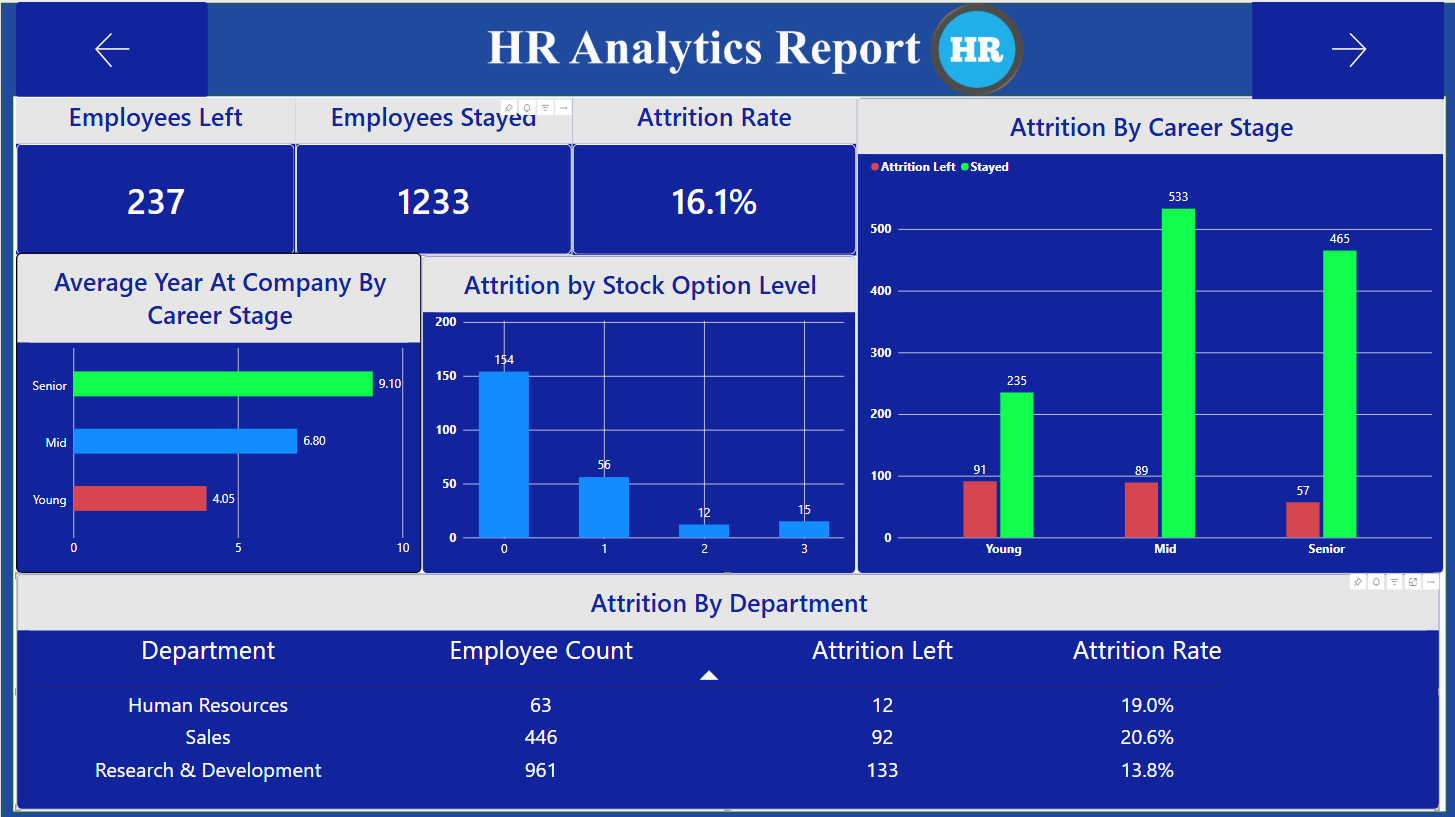

This screenshot's page, from the dashboard's own definition file:
{"tool":"powerbi","page":{"name":"Attrition Analysis","canvas":[1920,1080],"ordinal":1},"visuals":[{"type":"tableEx","title":"Attrition By Department","fields":{"Values":["HR Analytics Data.Department","HR Analytics Data.Employee Count","HR Analytics Data.Attrition Left","HR Analytics Data.Attrition Rate"]},"box":[19.5,753.1,1876.3,311.6],"z":0},{"type":"cardVisual","title":"Employees Left","fields":{"Data":["HR Analytics Data.Attrition Left"]},"box":[19.5,127.7,367.9,205.6],"z":1000},{"type":"cardVisual","title":"Attrition Rate","fields":{"Data":["HR Analytics Data.Attrition Rate"]},"box":[735.8,127.7,361.4,205.6],"z":2000},{"type":"clusteredColumnChart","title":"Attrition By Career Stage","fields":{"Category":["HR Analytics Data.Career Stage"],"Y":["HR Analytics Data.Attrition Left","HR Analytics Data.Stayed"]},"box":[1097.2,127.7,798.6,625.4],"z":3000},{"type":"cardVisual","title":"Employees Stayed","fields":{"Data":["HR Analytics Data.Stayed"]},"box":[387.4,127.7,348.4,205.6],"z":4000},{"type":"clusteredBarChart","title":"Average Year At Company By Career Stage","fields":{"Category":["HR Analytics Data.Career Stage"],"Y":["Avg(HR Analytics Data.YearsAtCompany)"]},"box":[19.5,333.3,491.3,419.8],"z":5000},{"type":"clusteredColumnChart","title":"Attrition by Stock Option Level","fields":{"Category":["HR Analytics Data.StockOptionLevel"],"Y":["HR Analytics Data.Attrition Left"]},"box":[510.7,333.3,586.5,419.8],"z":6000},{"type":"actionButton","box":[1649.1,0,253.2,127.7],"z":6001},{"type":"actionButton","box":[19.5,0,253.2,125.5],"z":6002}]}

Visuals, with their boxes in screenshot pixels (x1, y1, x2, y2), scaled from the page's 1920x1080 canvas onto the 1455x817 screenshot:
"Attrition By Department" tableEx: select_region(15, 570, 1437, 805)
"Employees Left" cardVisual: select_region(15, 97, 294, 252)
"Attrition Rate" cardVisual: select_region(558, 97, 831, 252)
"Attrition By Career Stage" clusteredColumnChart: select_region(831, 97, 1437, 570)
"Employees Stayed" cardVisual: select_region(294, 97, 558, 252)
"Average Year At Company By Career Stage" clusteredBarChart: select_region(15, 252, 387, 570)
"Attrition by Stock Option Level" clusteredColumnChart: select_region(387, 252, 831, 570)
actionButton: select_region(1250, 0, 1442, 97)
actionButton: select_region(15, 0, 207, 95)
